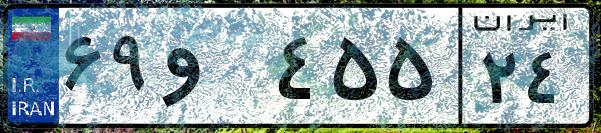2: (475, 38, 525, 113)
4: (270, 28, 330, 110), (525, 38, 570, 115)
5: (385, 28, 445, 110), (330, 28, 385, 110)
6: (57, 26, 110, 100)
9: (110, 28, 158, 98)
و: (158, 20, 270, 120)
